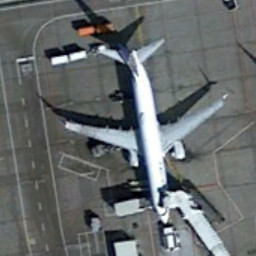Airplane: (60, 37, 238, 229)
